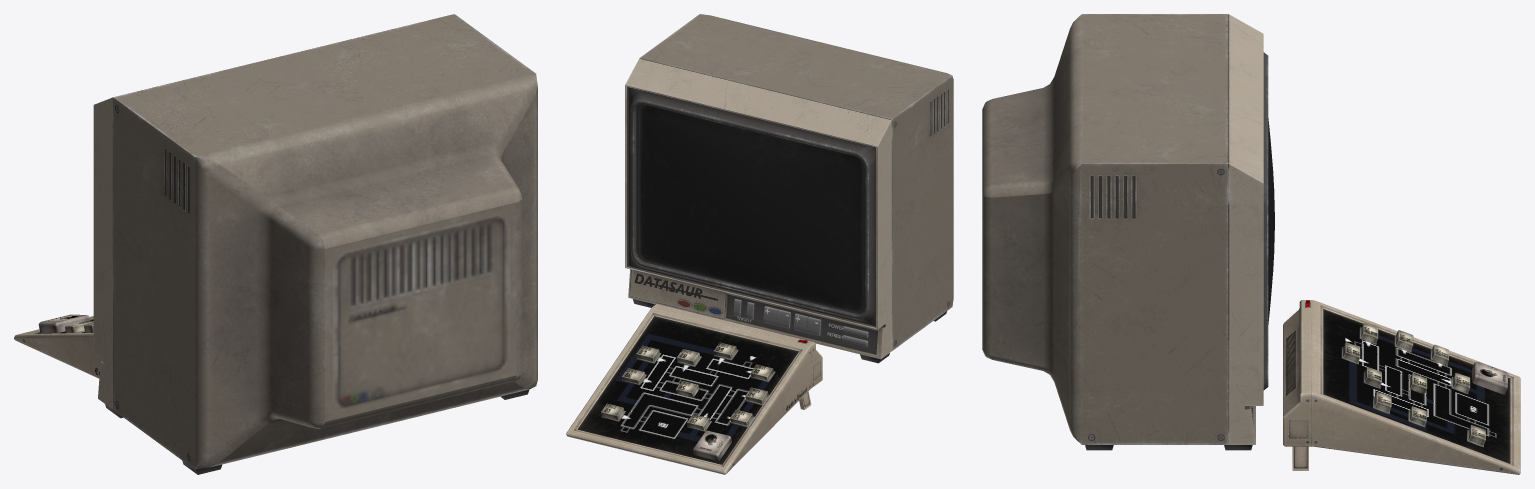
Rendered from computer2.glb.
The picture shows the model from 3 angles, left to right: view 1: azimuth 30°, elevation 25°; view 2: azimuth 150°, elevation 25°; view 3: azimuth 270°, elevation 25°; orthographic projection. The views are drawn at different scales.
Parts seen in each view (by area): view 1: ENV_MOD_Monitor, ENV_MOD_Monitor_Board_Office03_A_Monitor_Board_Office03_A_Gr, ENV_MOD_Monitor_Board_Office03_Audio_Monitor_Board_Office03_; view 2: ENV_MOD_Monitor, ENV_MOD_Monitor_Board_Office03_A_Monitor_Board_Office03_A_Gr, ENV_MOD_Monitor_Board_Office03_Audio_Monitor_Board_Office03_; view 3: ENV_MOD_Monitor, ENV_MOD_Monitor_Board_Office03_A_Monitor_Board_Office03_A_Gr, ENV_MOD_Monitor_Board_Office03_Audio_Monitor_Board_Office03_.
Boxes of the visible parts, x1,y1,x2,y2 form: ENV_MOD_Monitor: (93,14,537,474); ENV_MOD_Monitor_Board_Office03_A_Monitor_Board_Office03_A_Gr: (14,316,104,378); ENV_MOD_Monitor_Board_Office03_Audio_Monitor_Board_Office03_: (38,314,90,333); ENV_MOD_Monitor: (625,14,953,363); ENV_MOD_Monitor_Board_Office03_A_Monitor_Board_Office03_A_Gr: (566,304,822,474); ENV_MOD_Monitor_Board_Office03_Audio_Monitor_Board_Office03_: (693,430,731,460); ENV_MOD_Monitor: (982,14,1274,450); ENV_MOD_Monitor_Board_Office03_A_Monitor_Board_Office03_A_Gr: (1283,300,1520,474); ENV_MOD_Monitor_Board_Office03_Audio_Monitor_Board_Office03_: (1472,361,1507,394).
Size of the model in its own units: 0.6368 by 0.6724 by 0.9672.
Materials: 14 (14 with a texture image).
